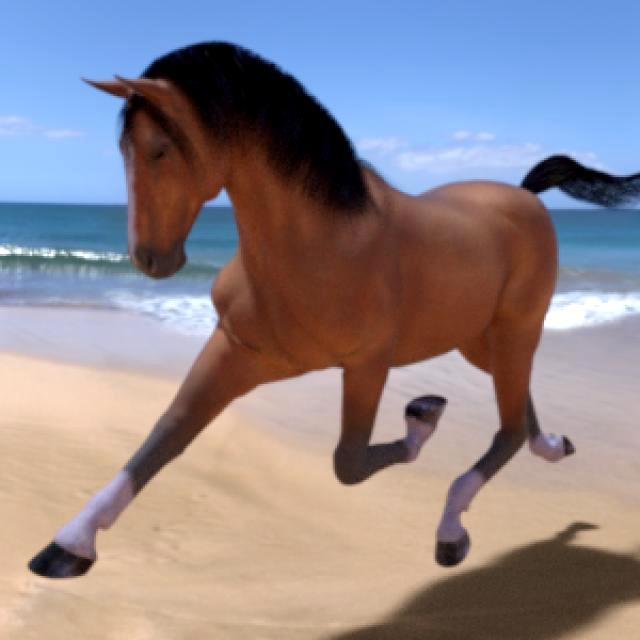horse: (29, 42, 640, 578)
